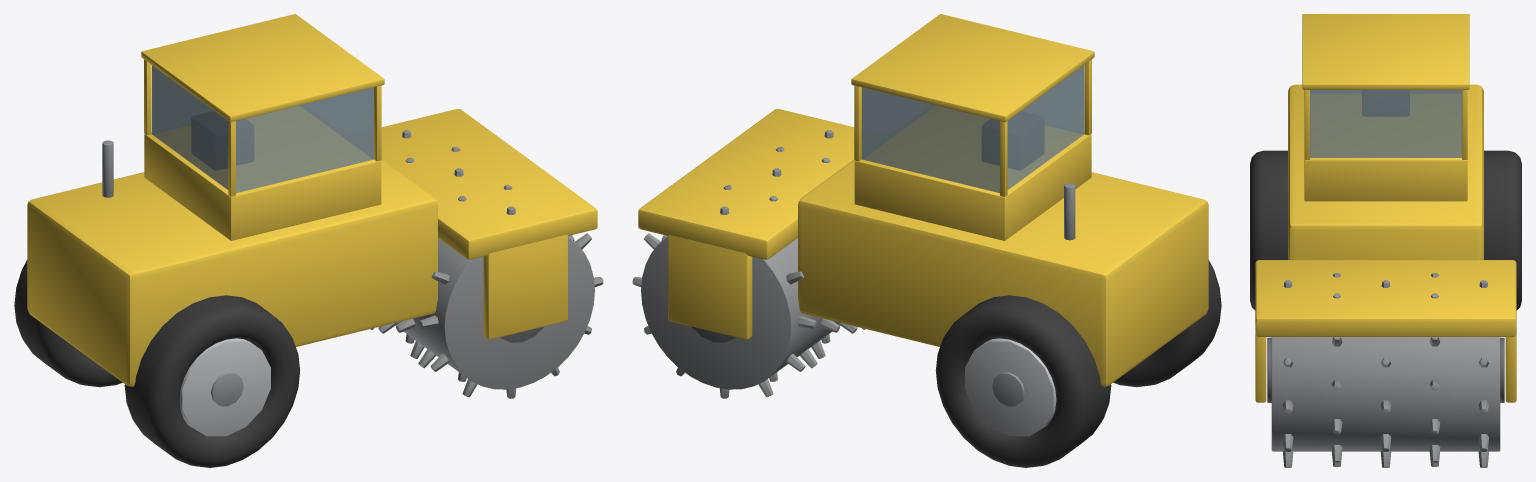
The model's file is EQP-CMP-001.glb.
The picture shows the model from 3 angles, left to right: view 1: azimuth 30°, elevation 25°; view 2: azimuth 150°, elevation 25°; view 3: azimuth 270°, elevation 25°; orthographic projection. The views are drawn at different scales.
Parts seen in each view (by area): view 1: EQP-CMP-001_corpo, EQP-CMP-001_cab_base, EQP-CMP-001_garfo, EQP-CMP-001_roda-1_pneu, EQP-CMP-001_cab_teto, EQP-CMP-001_tambor_cilindro, EQP-CMP-001_cab_vidro_e, EQP-CMP-001_garfo_lado-1, EQP-CMP-001_roda-1_aro, EQP-CMP-001_cab_vidro_t, EQP-CMP-001_roda1_pneu, EQP-CMP-001_cab_banco (+5 smaller); view 2: EQP-CMP-001_corpo, EQP-CMP-001_cab_base, EQP-CMP-001_garfo, EQP-CMP-001_roda1_pneu, EQP-CMP-001_cab_teto, EQP-CMP-001_tambor_cilindro, EQP-CMP-001_cab_vidro_d, EQP-CMP-001_garfo_lado1, EQP-CMP-001_roda1_aro, EQP-CMP-001_cab_vidro_t, EQP-CMP-001_roda-1_pneu, EQP-CMP-001_cab_banco (+5 smaller); view 3: EQP-CMP-001_tambor_cilindro, EQP-CMP-001_garfo, EQP-CMP-001_cab_base, EQP-CMP-001_corpo, EQP-CMP-001_cab_teto, EQP-CMP-001_cab_vidro_f, EQP-CMP-001_roda1_pneu, EQP-CMP-001_roda-1_pneu, EQP-CMP-001, EQP-CMP-001_cab_banco, EQP-CMP-001_garfo_lado1, EQP-CMP-001_garfo_lado-1 (+4 smaller).
Part boxes in pixels (left/top/right/bottom): EQP-CMP-001_corpo: left=27, top=159, right=437, bottom=386; EQP-CMP-001_cab_base: left=144, top=106, right=381, bottom=240; EQP-CMP-001_garfo: left=381, top=108, right=597, bottom=259; EQP-CMP-001_roda-1_pneu: left=124, top=295, right=300, bottom=467; EQP-CMP-001_cab_teto: left=141, top=14, right=384, bottom=122; EQP-CMP-001_tambor_cilindro: left=395, top=236, right=594, bottom=389; EQP-CMP-001_cab_vidro_e: left=236, top=87, right=373, bottom=193; EQP-CMP-001_garfo_lado-1: left=483, top=234, right=567, bottom=339; EQP-CMP-001_roda-1_aro: left=179, top=338, right=270, bottom=436; EQP-CMP-001_cab_vidro_t: left=152, top=65, right=228, bottom=189; EQP-CMP-001_roda1_pneu: left=14, top=260, right=122, bottom=387; EQP-CMP-001_cab_banco: left=192, top=111, right=253, bottom=169; EQP-CMP-001_corpo: left=798, top=159, right=1208, bottom=386; EQP-CMP-001_cab_base: left=854, top=106, right=1091, bottom=240; EQP-CMP-001_garfo: left=638, top=108, right=854, bottom=259; EQP-CMP-001_roda1_pneu: left=935, top=295, right=1111, bottom=467; EQP-CMP-001_cab_teto: left=851, top=14, right=1094, bottom=122; EQP-CMP-001_tambor_cilindro: left=641, top=236, right=840, bottom=389; EQP-CMP-001_cab_vidro_d: left=862, top=87, right=999, bottom=193; EQP-CMP-001_garfo_lado1: left=668, top=234, right=752, bottom=339; EQP-CMP-001_roda1_aro: left=965, top=338, right=1056, bottom=436; EQP-CMP-001_cab_vidro_t: left=1007, top=65, right=1083, bottom=189; EQP-CMP-001_roda-1_pneu: left=1113, top=260, right=1221, bottom=387; EQP-CMP-001_cab_banco: left=982, top=111, right=1043, bottom=169; EQP-CMP-001_tambor_cilindro: left=1271, top=337, right=1500, bottom=451; EQP-CMP-001_garfo: left=1255, top=260, right=1516, bottom=336; EQP-CMP-001_cab_base: left=1304, top=94, right=1467, bottom=201; EQP-CMP-001_corpo: left=1288, top=84, right=1483, bottom=259; EQP-CMP-001_cab_teto: left=1302, top=14, right=1469, bottom=89; EQP-CMP-001_cab_vidro_f: left=1310, top=90, right=1461, bottom=157; EQP-CMP-001_roda1_pneu: left=1484, top=150, right=1521, bottom=310; EQP-CMP-001_roda-1_pneu: left=1250, top=150, right=1287, bottom=310; EQP-CMP-001: left=1282, top=273, right=1489, bottom=467; EQP-CMP-001_cab_banco: left=1362, top=90, right=1409, bottom=115; EQP-CMP-001_garfo_lado1: left=1505, top=334, right=1516, bottom=402; EQP-CMP-001_garfo_lado-1: left=1255, top=334, right=1266, bottom=402.
Bounding box in the file's own units: 4.7 × 3.25 × 2.5.
